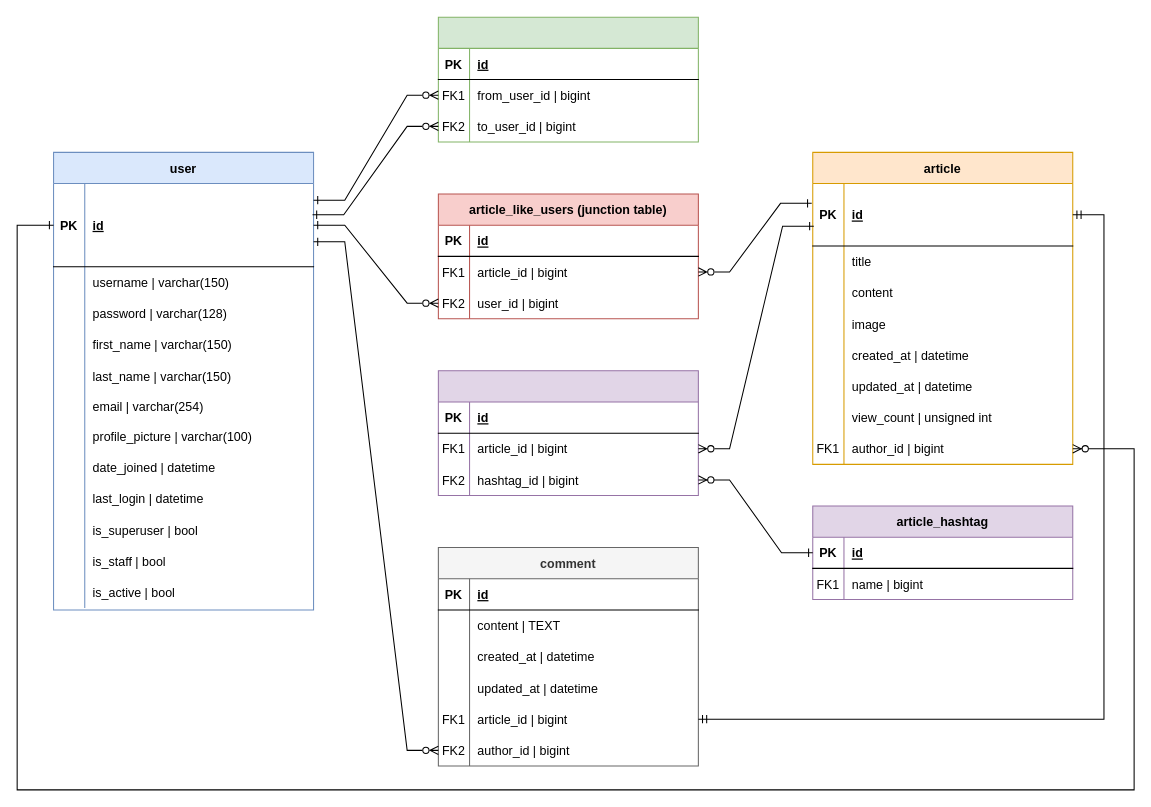
Image size: 1151x807. Some labels were removed from this diagram. The box of each missing label's shape, as (x1, y1, x2, y2) in pixels:
article_hashtags (junction table): (437, 370, 698, 496)
user_followings (junction table): (437, 16, 698, 142)
